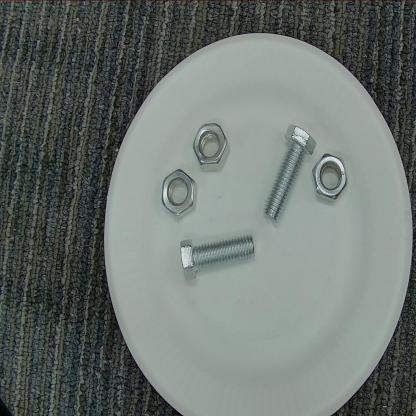FOD: (261, 119, 318, 226), (178, 231, 258, 282), (308, 150, 350, 207), (189, 120, 233, 174), (157, 167, 200, 220)
